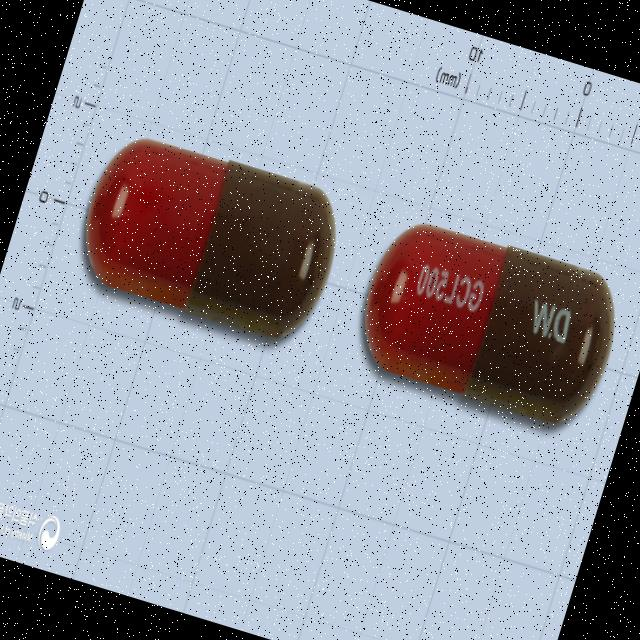Gomcillin Cap -250mg: (343, 206, 632, 440), (65, 124, 351, 351)
